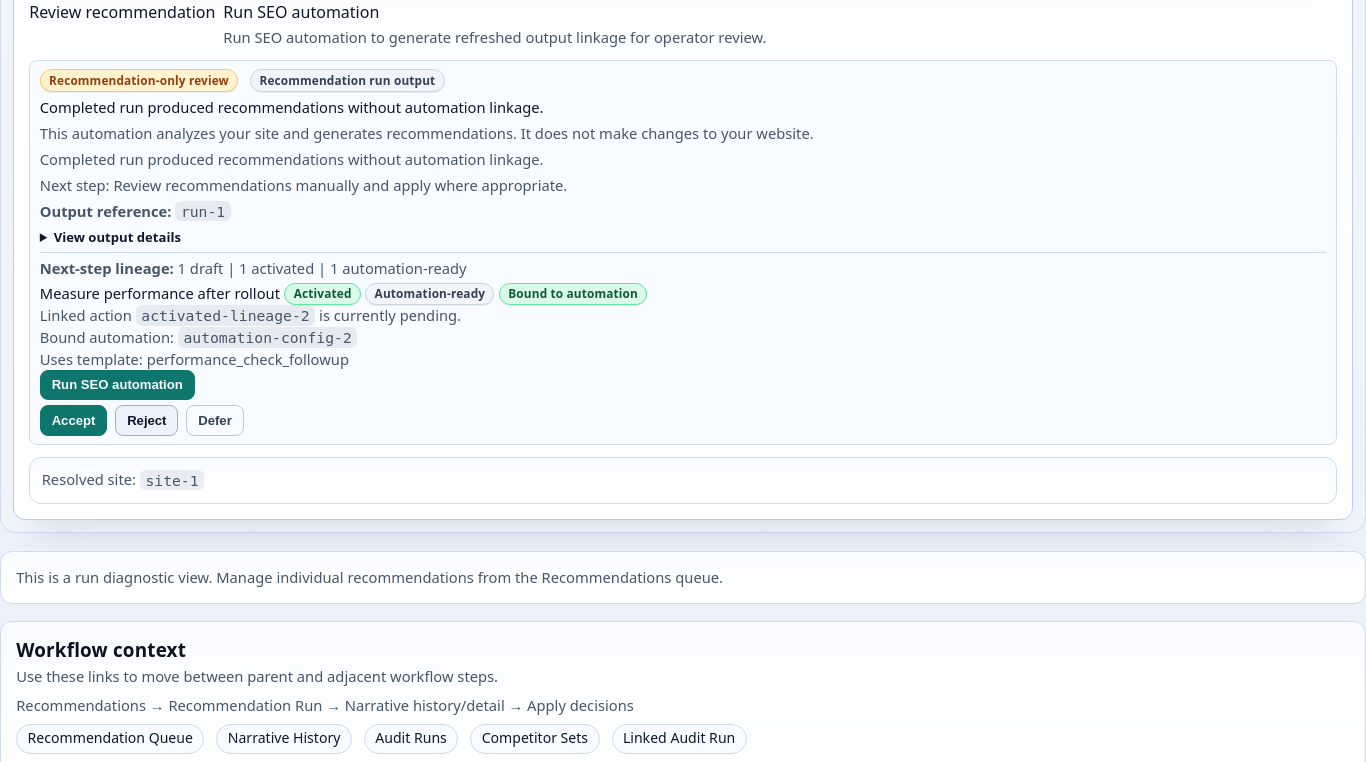
Test: recommendation run detail page presentation › requests automation execution for a bound activated run-level lineage action
The width and height of the screenshot is (1366, 762).
(page scrolled)
Click the button "Run SEO automation". click: [117, 385]
box: x1=40 y1=370 x2=195 y2=400
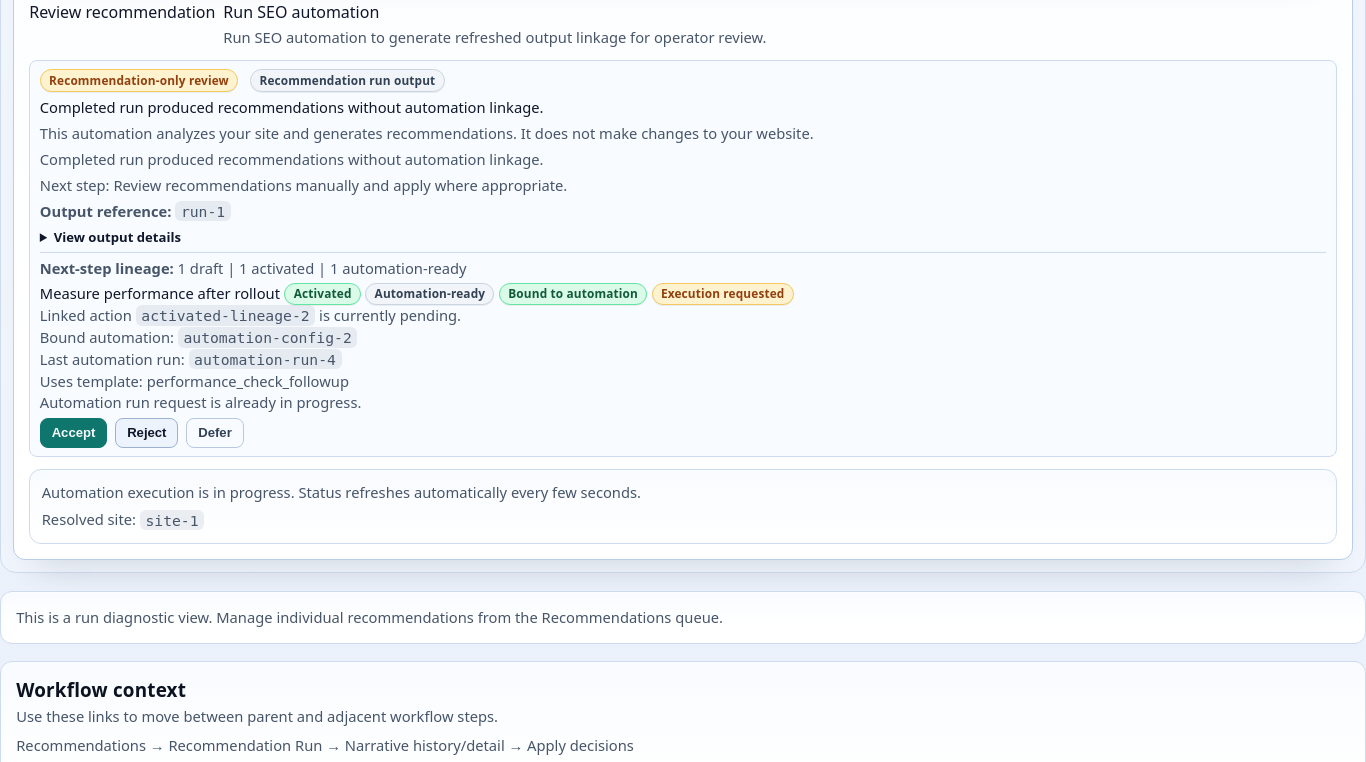
Expected: the text "Execution requested" is shown, x1=652 y1=283 x2=794 y2=305
Expected: the text with test id "recommendation-run-execution-polling-status" is shown, x1=42 y1=482 x2=641 y2=502
